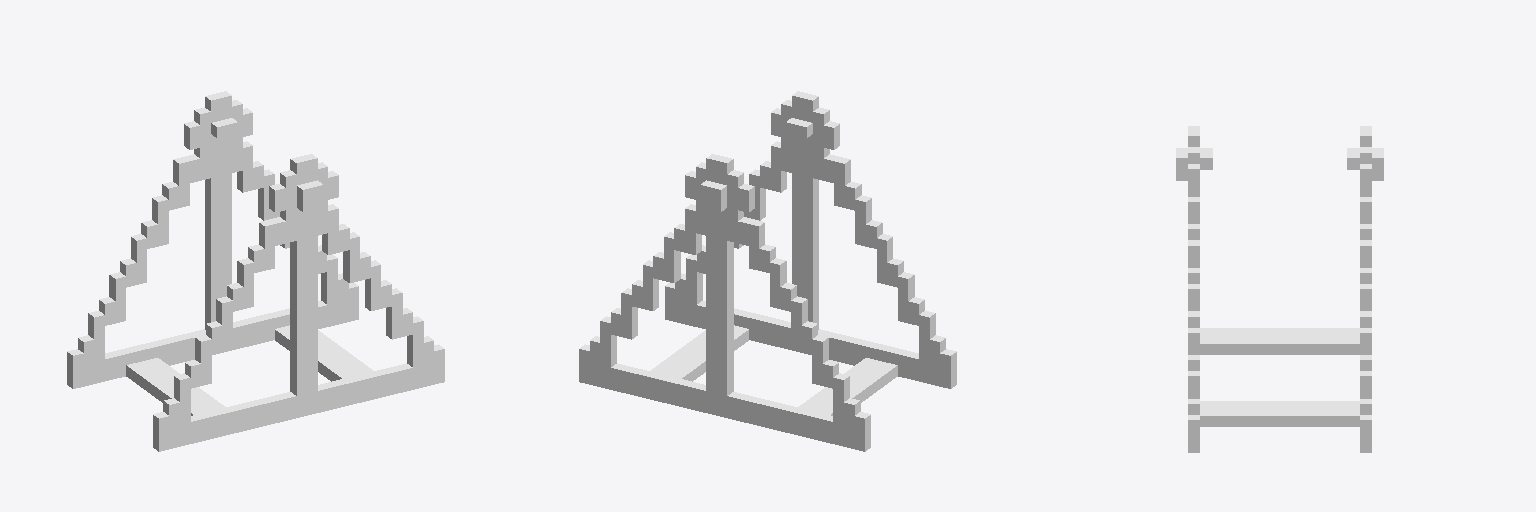
Rendered from wheelstand.obj.
The picture shows the model from 3 angles: view 1: azimuth 30°, elevation 25°; view 2: azimuth 150°, elevation 25°; view 3: azimuth 270°, elevation 25°; orthographic projection.
Visible parts, largest first — view 1: object 1; view 2: object 1; view 3: object 1.
Part boxes in pixels (left/top/right/bottom): object 1: left=67, top=91, right=444, bottom=451; object 1: left=579, top=91, right=956, bottom=451; object 1: left=1176, top=126, right=1383, bottom=452.
Bounding box in the file's own units: 2.7 × 2.3 × 1.7.